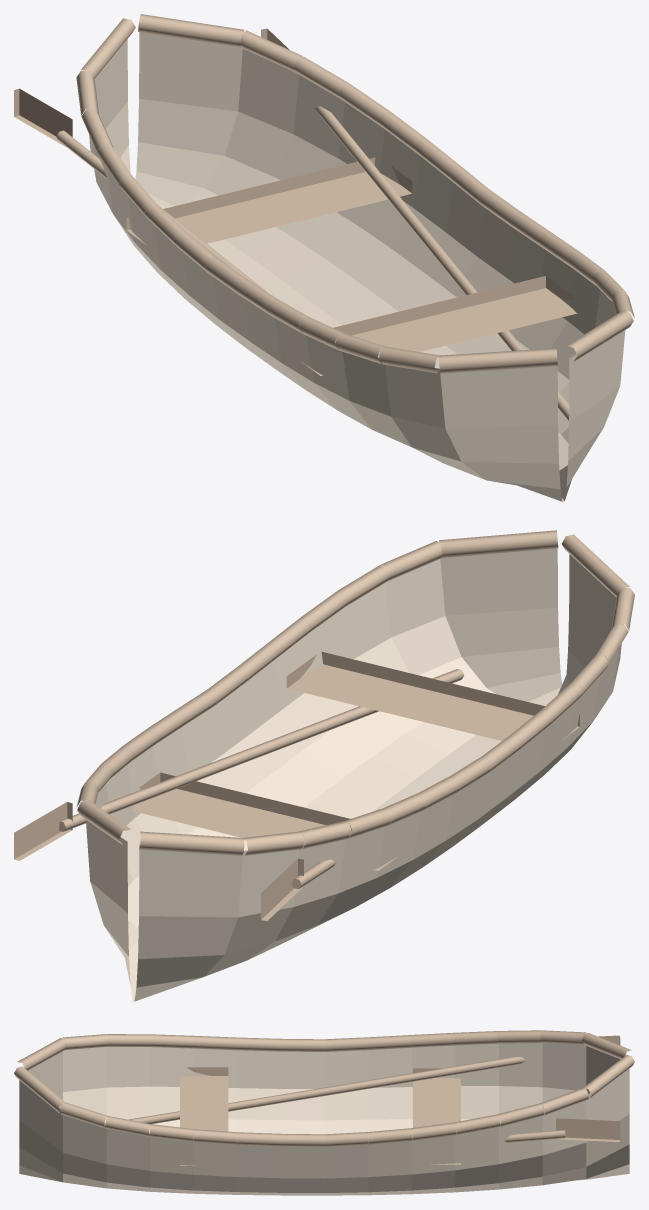
The model's file is HarborRowboatWood.gltf.
3 views of the same model, one above another, from view 1: azimuth 30°, elevation 25°; view 2: azimuth 150°, elevation 25°; view 3: azimuth 270°, elevation 25° (orthographic). The views are drawn at different scales.
Visible parts, largest first — view 1: HarborRowboatWood; view 2: HarborRowboatWood; view 3: HarborRowboatWood.
Boxes of the visible parts, <box> form: HarborRowboatWood: <box>14,14,634,501</box>; HarborRowboatWood: <box>14,530,634,1001</box>; HarborRowboatWood: <box>14,1030,634,1195</box>.
Size of the model in its own units: 1.48 by 0.8678 by 3.87.
